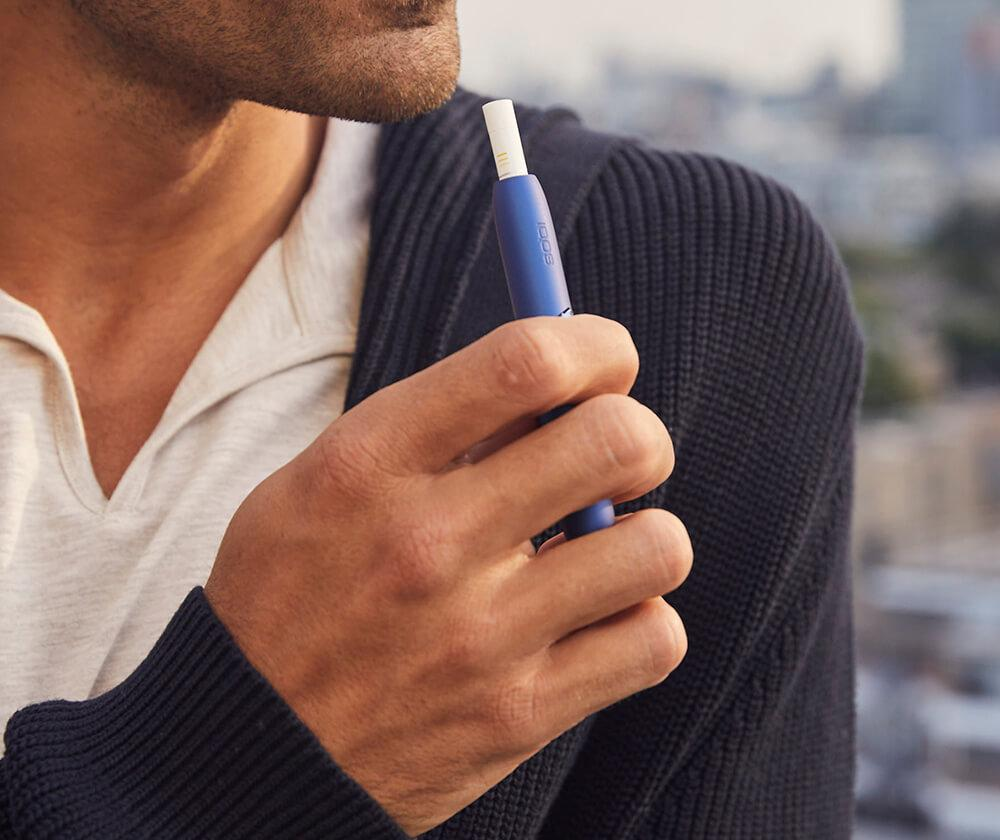iqos: (480, 98, 616, 541)
